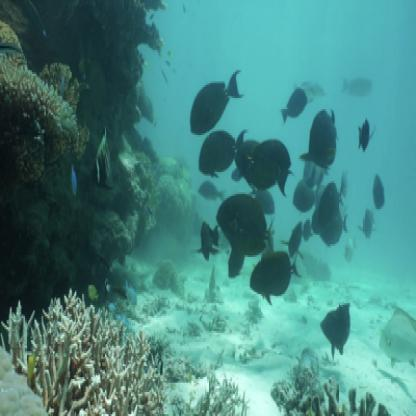surgeon: (181, 68, 252, 142), (212, 188, 280, 262), (247, 243, 307, 306), (196, 125, 250, 180), (317, 295, 356, 365), (277, 84, 312, 127)
